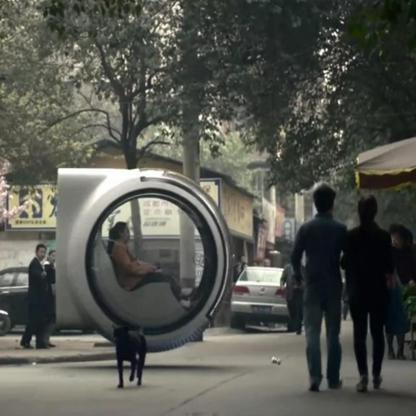face: (392, 233, 402, 249), (123, 226, 131, 242), (38, 249, 47, 260), (50, 253, 58, 263)
